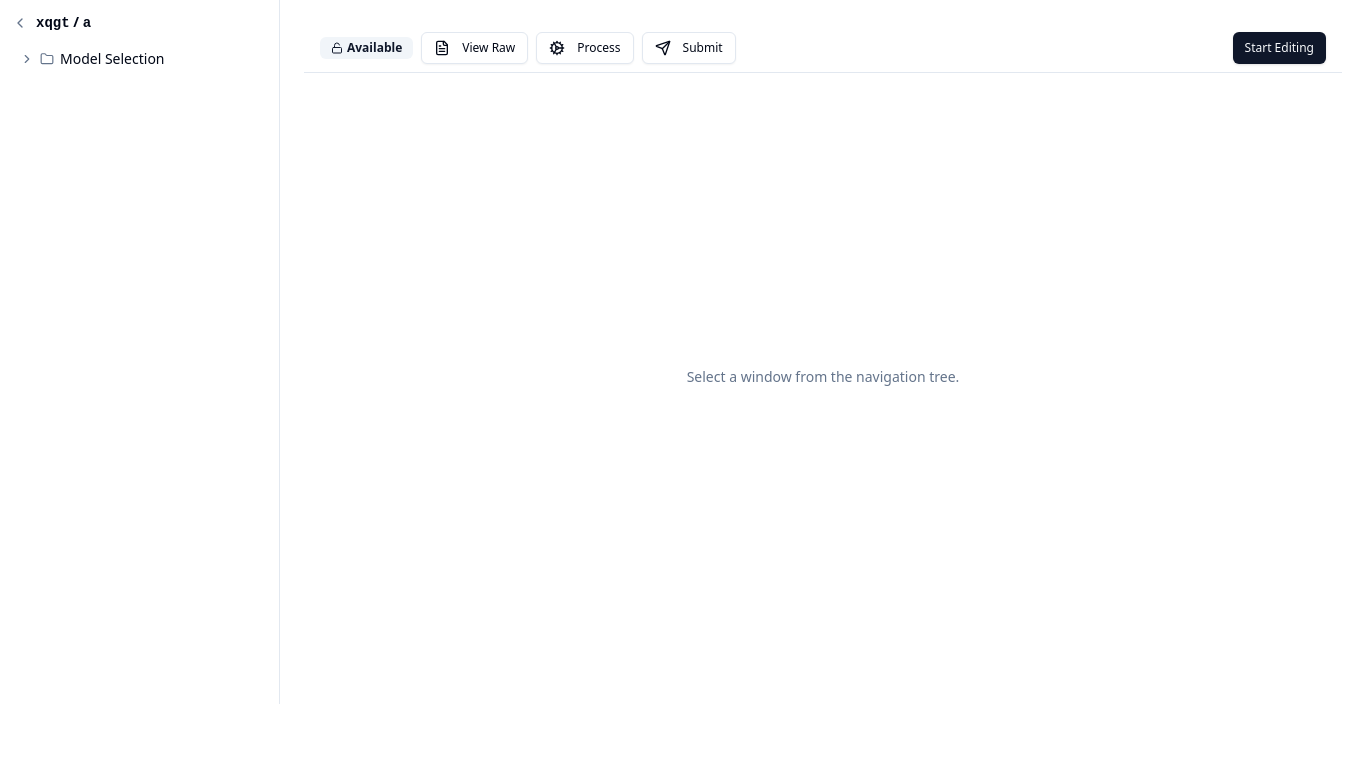
Test: Bridge edit flow › selects a window and shows its components
The image size is (1366, 768).
Expected: the text "Model Selection" is shown, [60, 49, 164, 69]
Expand the "Model Selection" node to see children
Click the button "Model Selection". click: click(140, 59)
box: [12, 45, 267, 73]
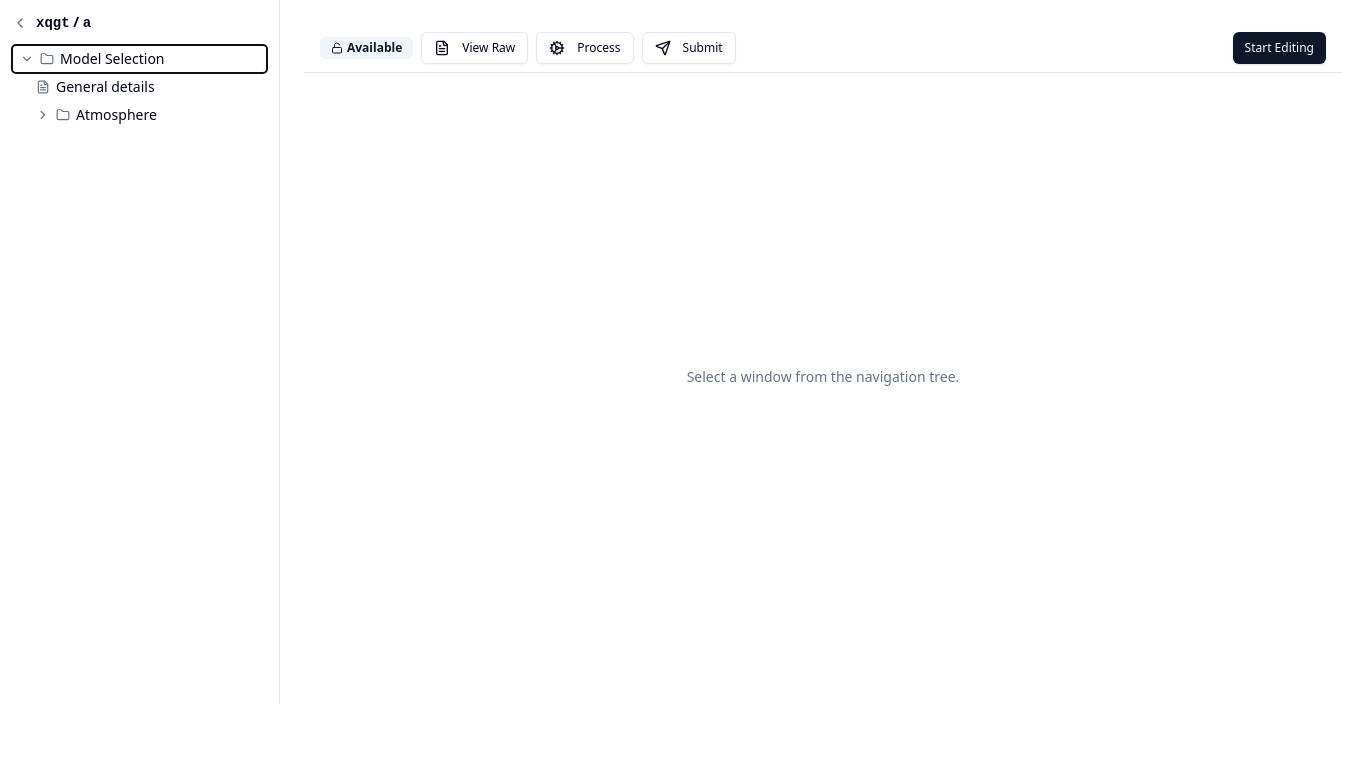
Expected: the text "General details" is shown, [56, 77, 155, 97]
Click the button "General details". click: click(140, 87)
box: [12, 73, 267, 101]
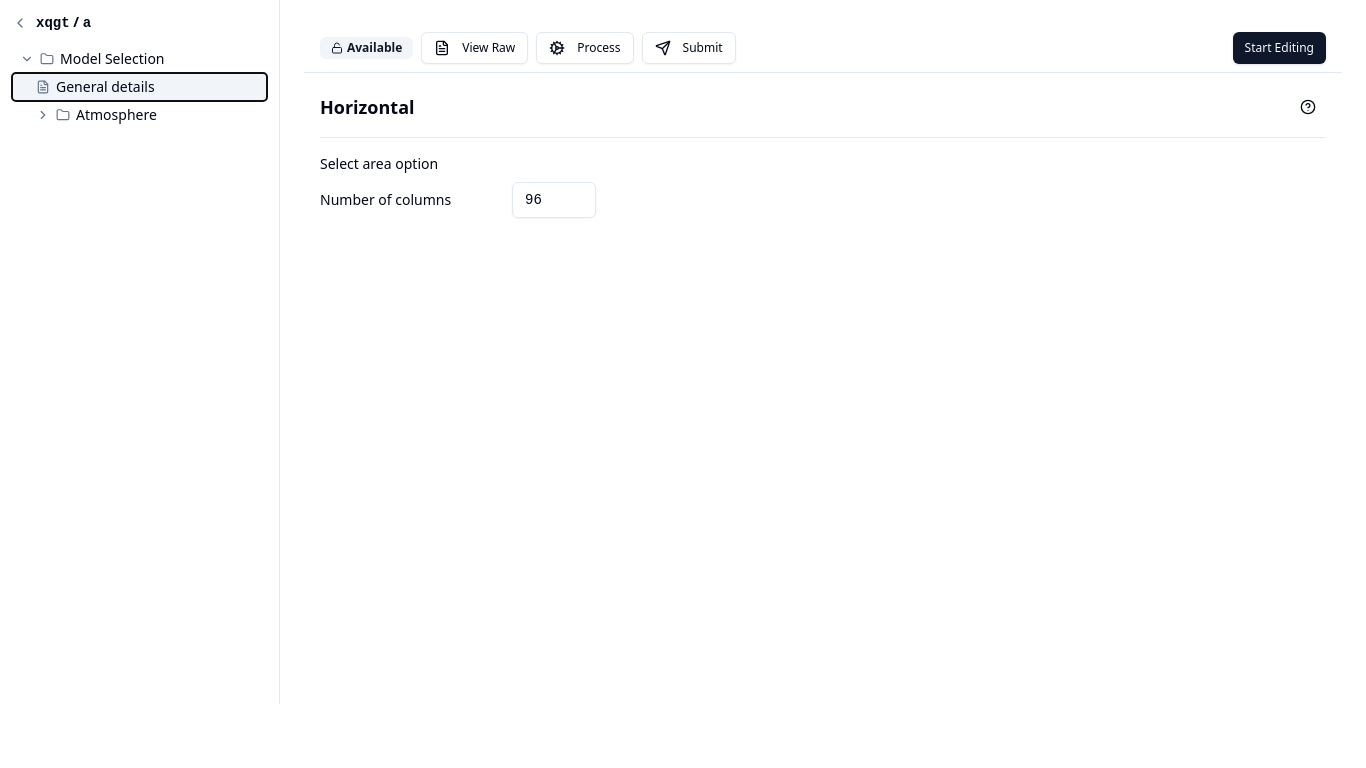
Expected: the text "Select area option" is shown, [320, 154, 438, 173]
